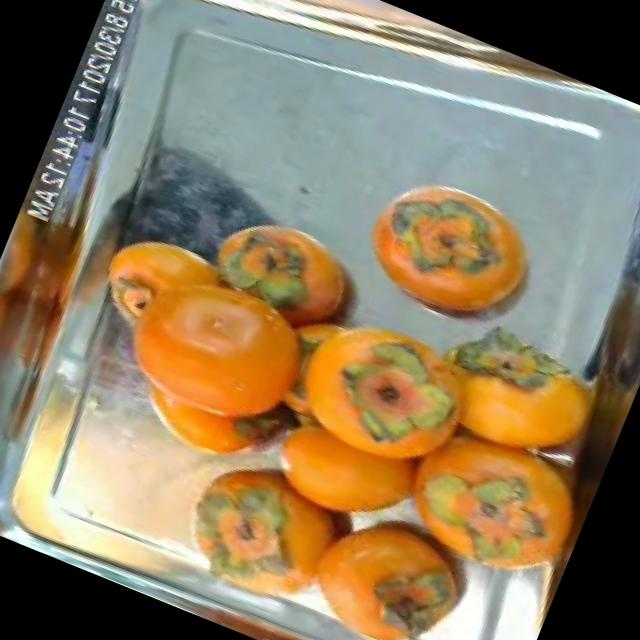Fruit: (17, 356, 269, 583), (335, 153, 571, 357), (190, 186, 381, 340)
